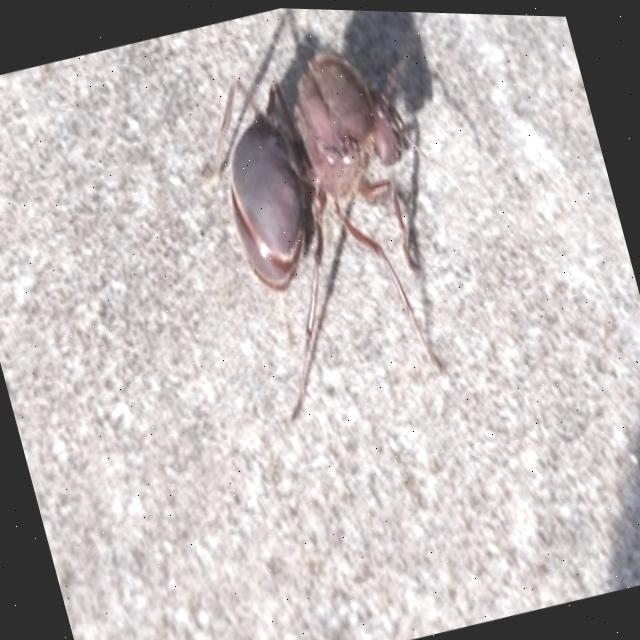Alive-Female-Dealate: (168, 14, 512, 437)
